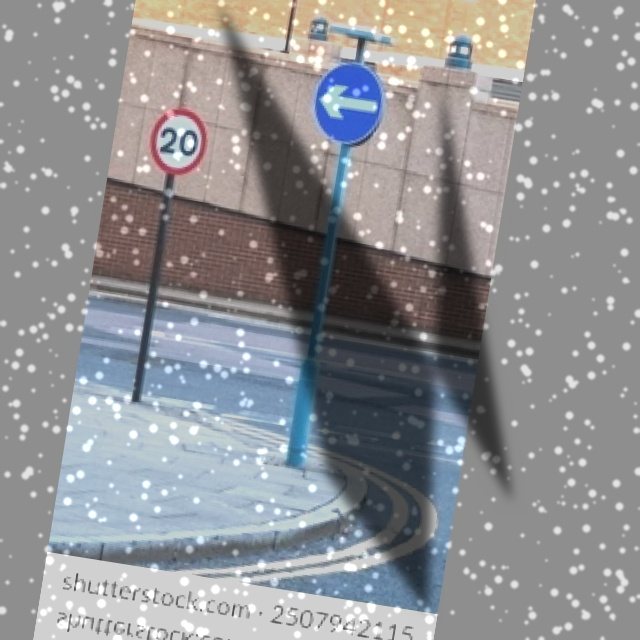Compulsory_Turn_Left: (305, 56, 392, 150)
